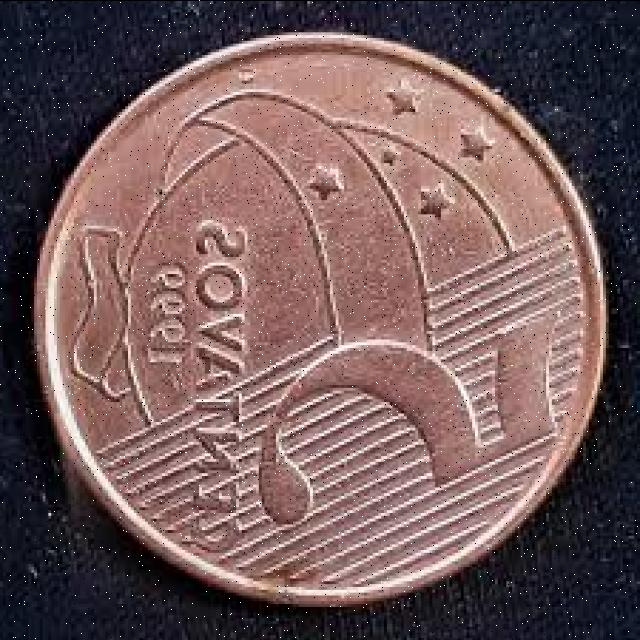5 cent: (34, 26, 610, 600)
